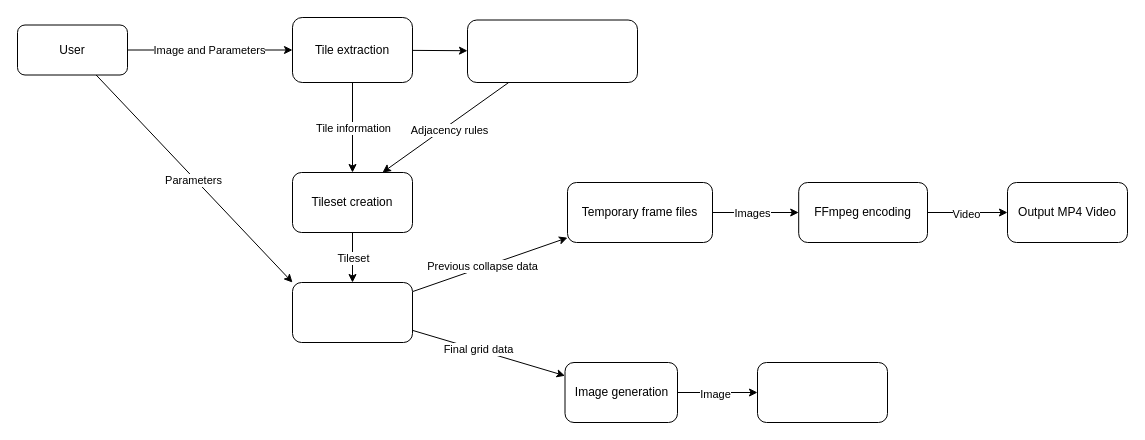
This 1145x440 diagram has some shape labels left out. The shapes that lost their labels are listed below. From the top down, each one's centre as x and y in pixels, then its label:
At pixel 552 50: "Adjacency rules generation".
At pixel 352 312: "Grid collapse".
At pixel 822 392: "Output PNG image".
